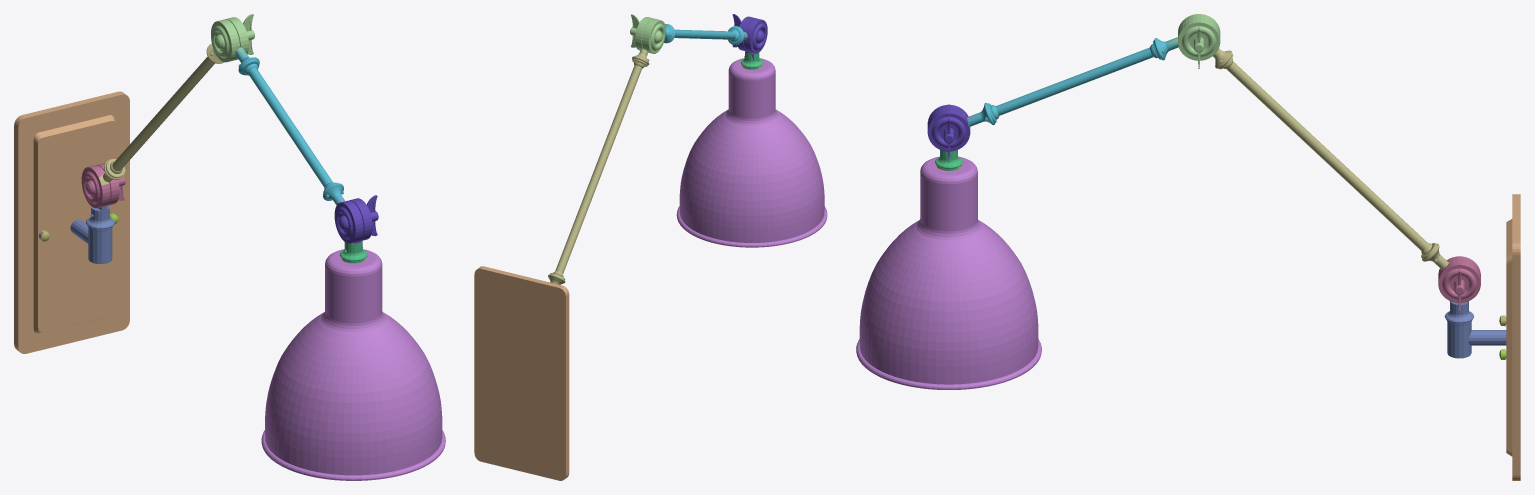
3 renders of one model, left to right at view 1: azimuth 30°, elevation 25°; view 2: azimuth 150°, elevation 25°; view 3: azimuth 270°, elevation 25°, orthographic. The views are drawn at different scales.
Visible parts, largest first — view 1: world; view 2: world; view 3: world.
Part boxes in pixels (x1,y1,x2,y2): world: (14, 14, 445, 480); world: (474, 14, 827, 480); world: (856, 14, 1520, 480).
Size of the model in its own units: 0.2793 by 0.7302 by 1.
